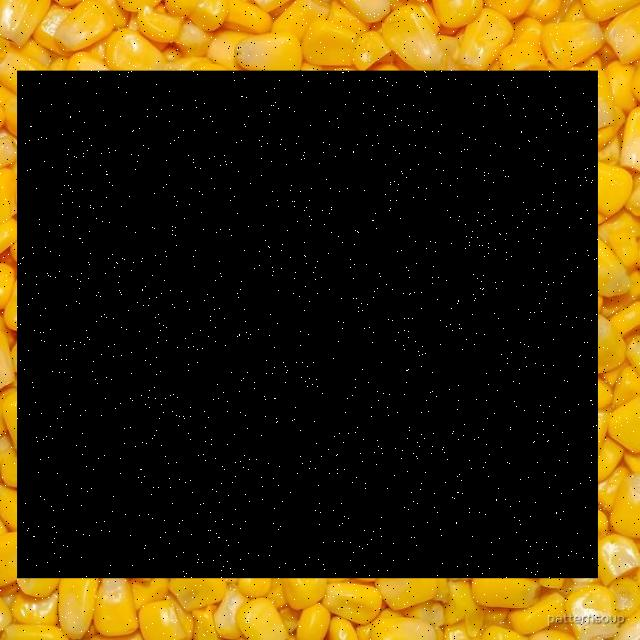Corn: (18, 71, 599, 579)
